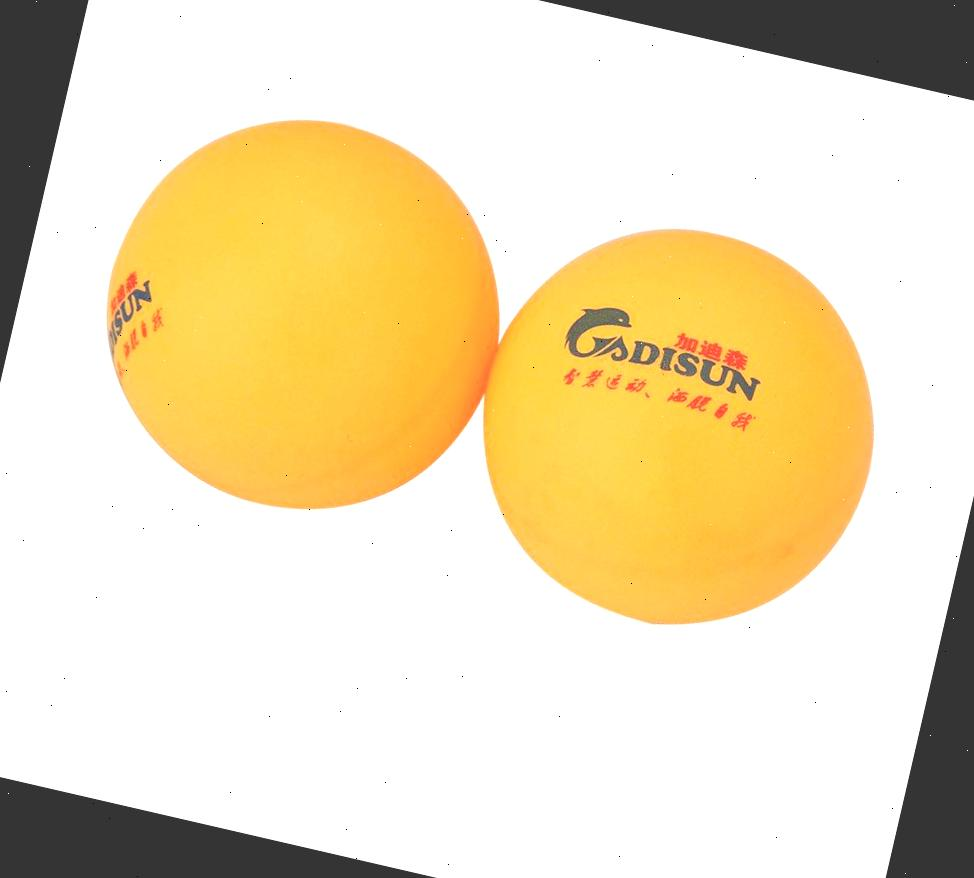ball: (434, 182, 922, 673), (58, 72, 546, 554)
